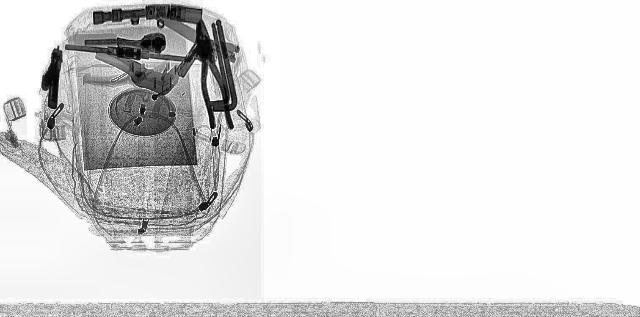Gun: (36, 46, 64, 108)
Pliers: (184, 17, 236, 129)
